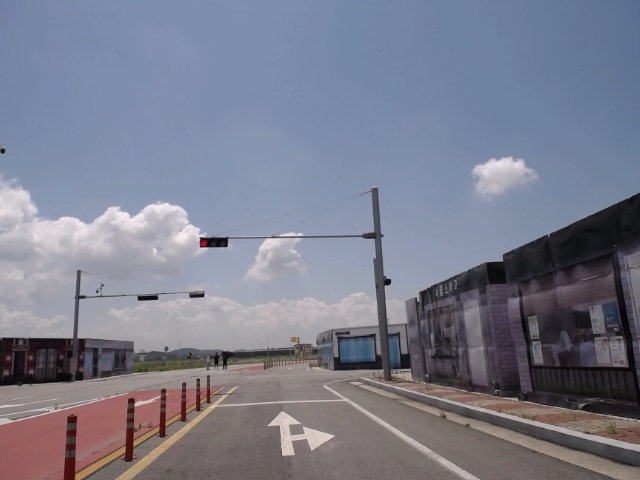red_3: (199, 236, 229, 250)
